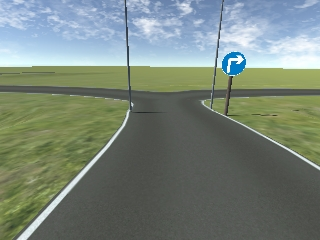right: (221, 52, 246, 76)
